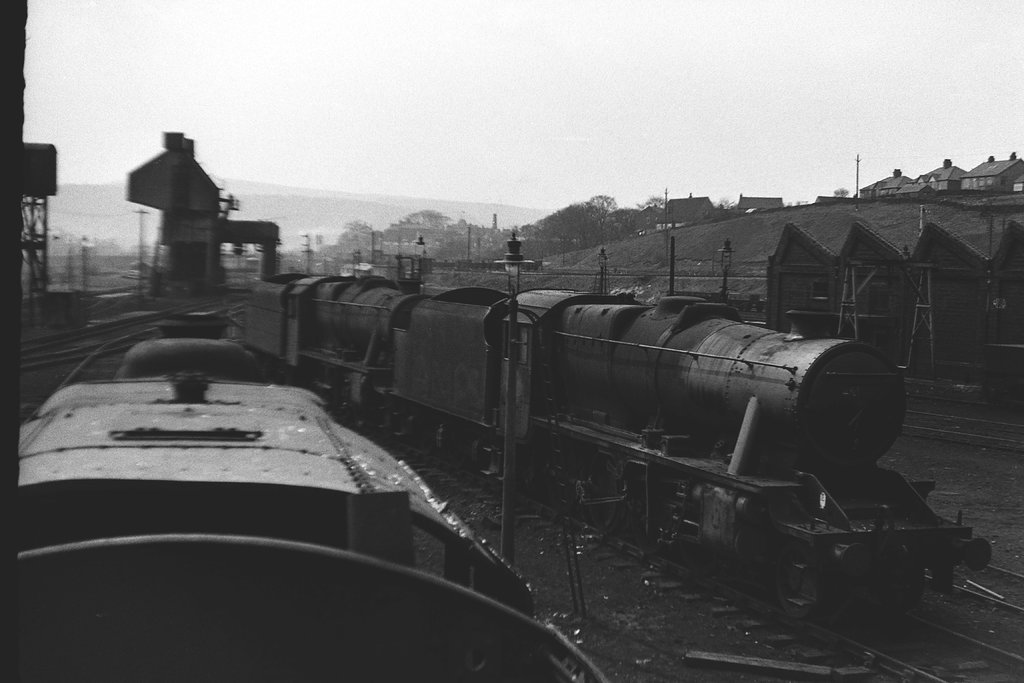train: (247, 287, 906, 438)
